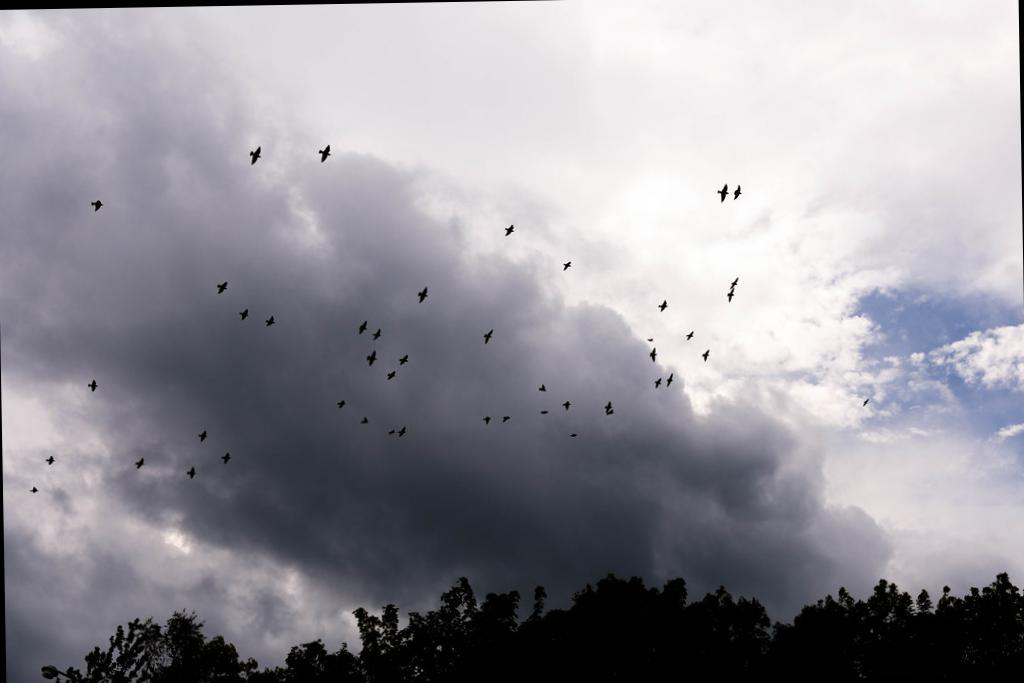bird: (309, 136, 334, 168), (727, 176, 747, 205), (476, 326, 500, 346), (244, 140, 262, 166), (712, 182, 730, 207), (411, 280, 429, 304), (38, 450, 61, 468), (556, 253, 574, 274), (84, 195, 106, 212), (390, 350, 416, 364), (20, 480, 44, 494), (232, 304, 250, 322), (350, 316, 370, 332), (192, 426, 212, 442), (212, 276, 229, 294), (82, 374, 100, 391), (362, 346, 377, 366), (216, 448, 235, 463), (180, 464, 200, 478), (394, 421, 410, 438), (260, 310, 276, 326), (369, 324, 385, 340), (130, 452, 146, 468), (500, 218, 515, 235), (380, 366, 398, 380), (721, 284, 735, 301), (855, 393, 872, 407), (645, 343, 657, 362), (654, 296, 668, 312), (696, 346, 710, 362), (723, 272, 740, 285), (662, 370, 674, 388), (535, 378, 548, 394), (333, 395, 347, 409), (356, 412, 370, 426), (558, 397, 572, 410), (650, 374, 662, 388), (682, 326, 694, 340), (601, 398, 611, 414), (476, 412, 490, 422), (382, 425, 396, 434), (537, 406, 550, 414), (500, 411, 510, 421), (604, 406, 613, 414), (564, 430, 578, 435), (642, 334, 653, 340)
